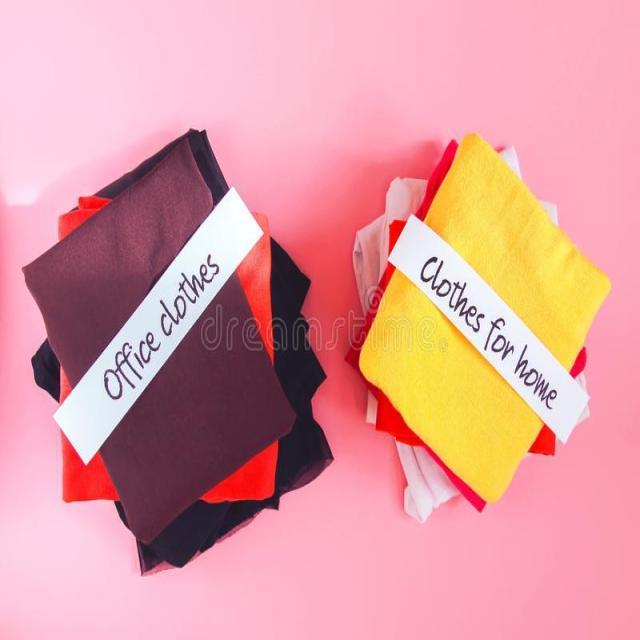clothes: (32, 162, 332, 545)
